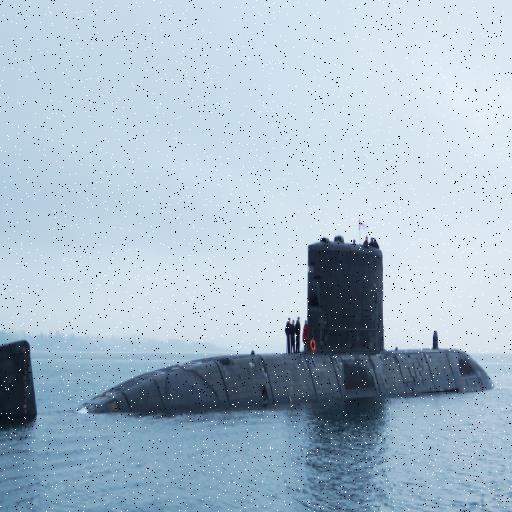submarine: (1, 230, 506, 430)
